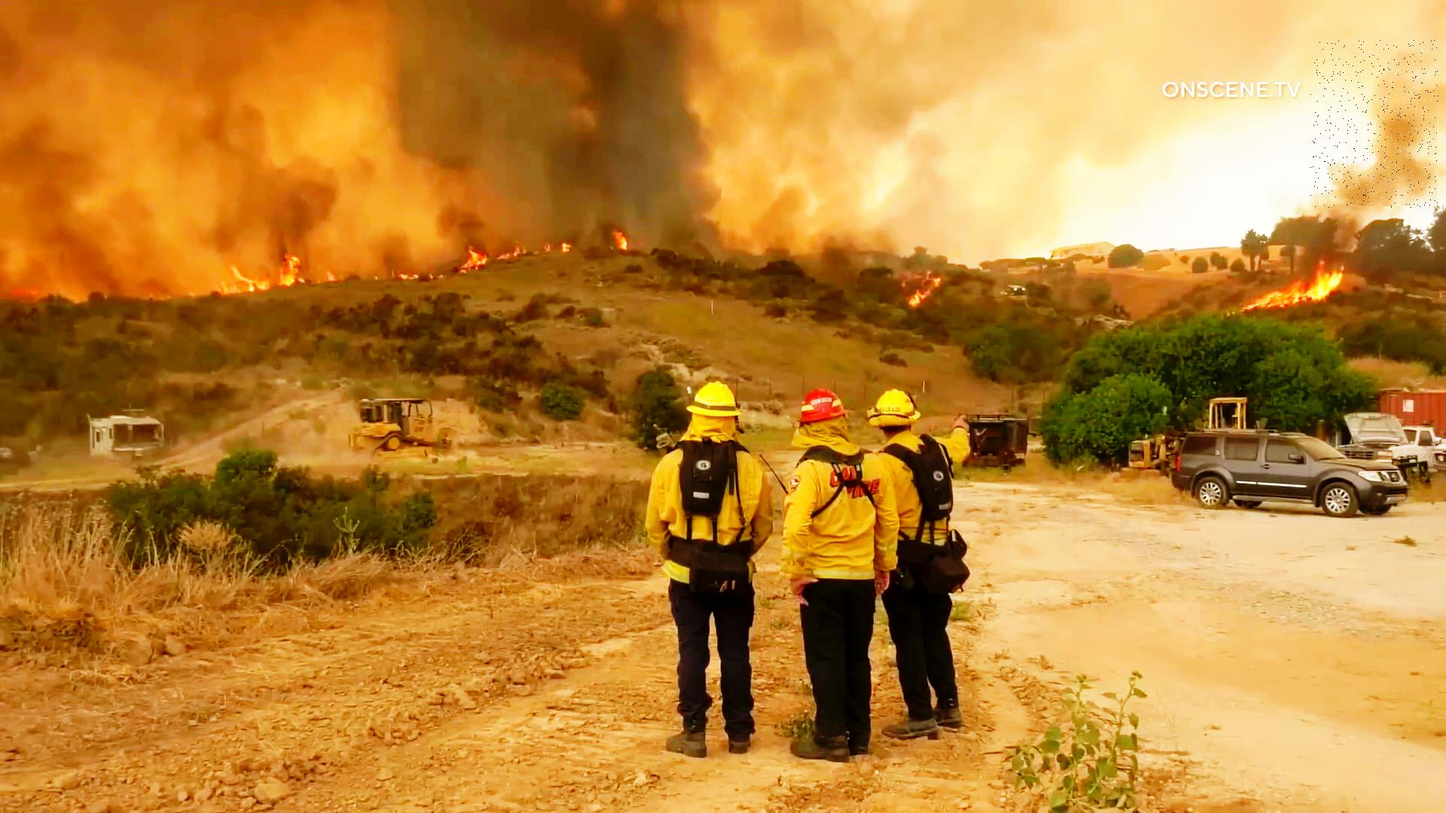smoke: (1311, 40, 1439, 208)
